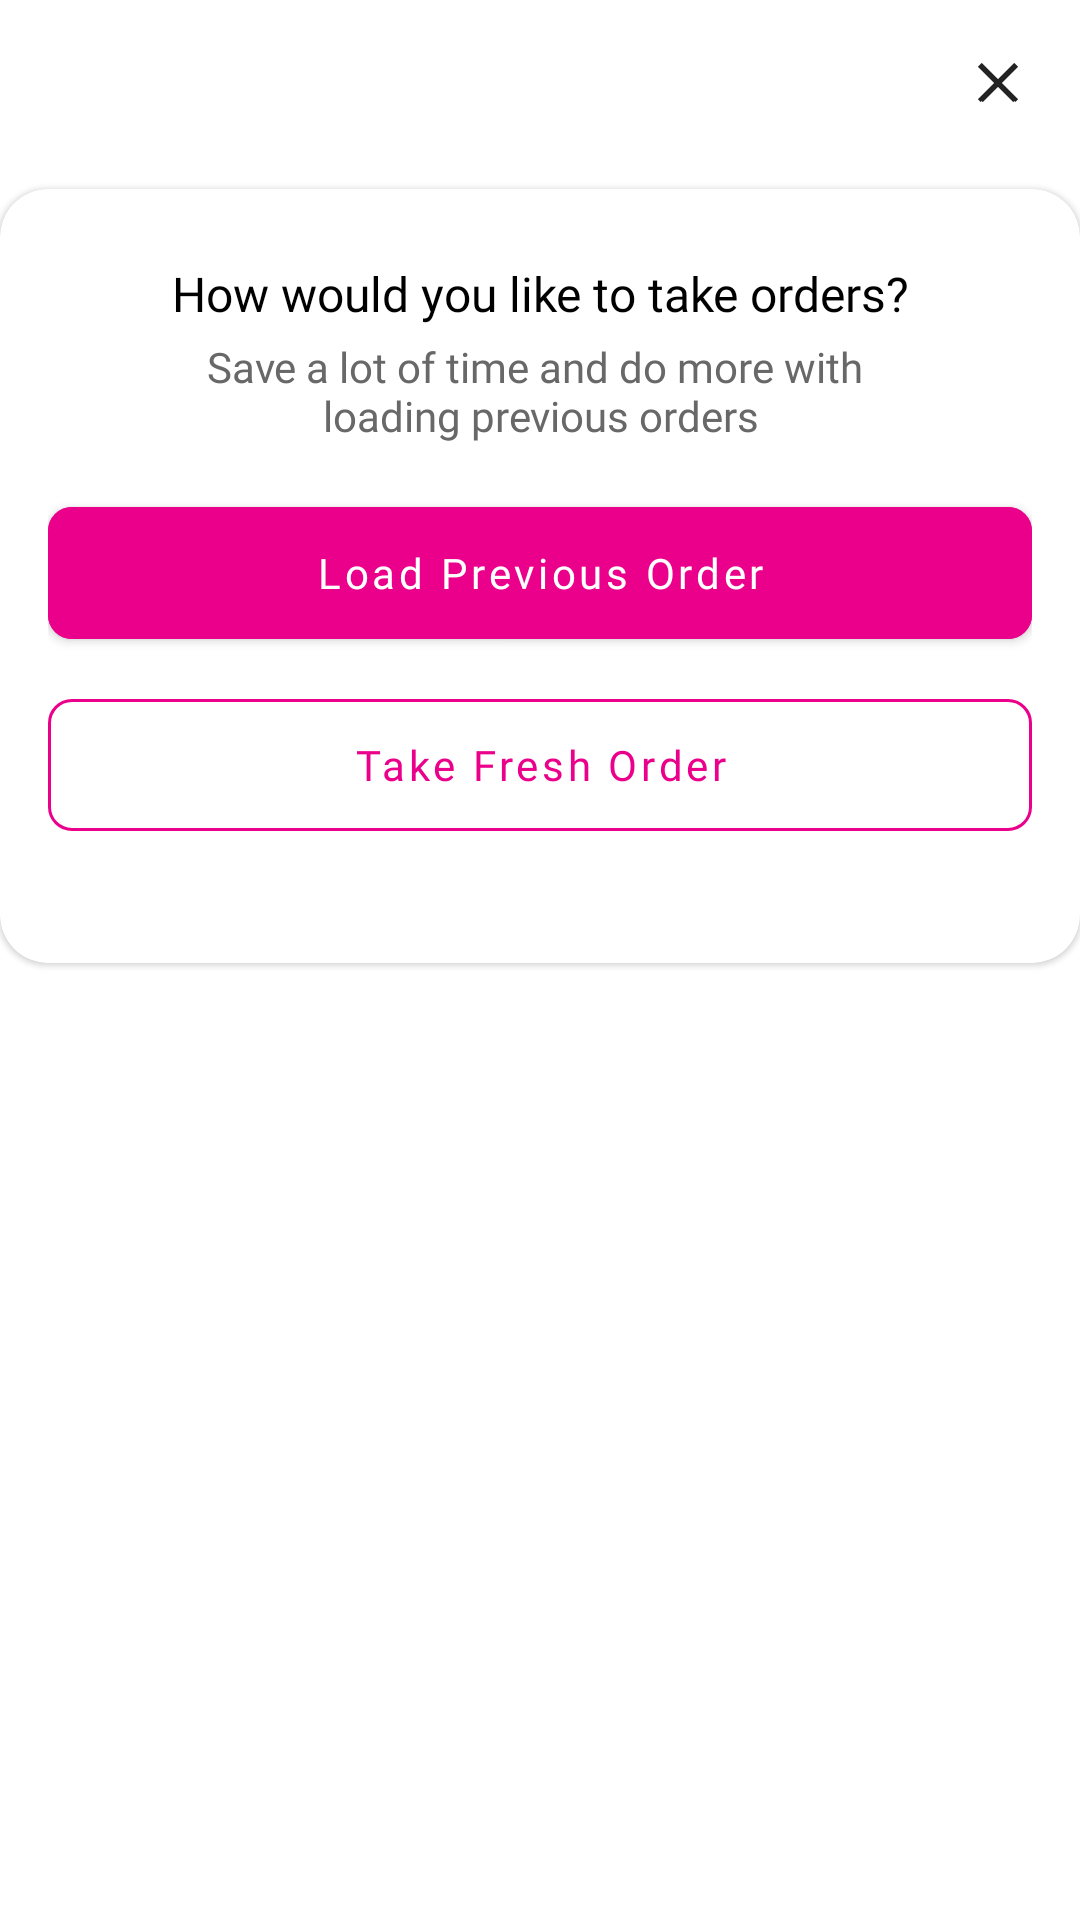

Screen size 1080*1920. Icon name, then its box in pixels as (x1, y1, x2, y2):
close: (978, 63, 1018, 102)
